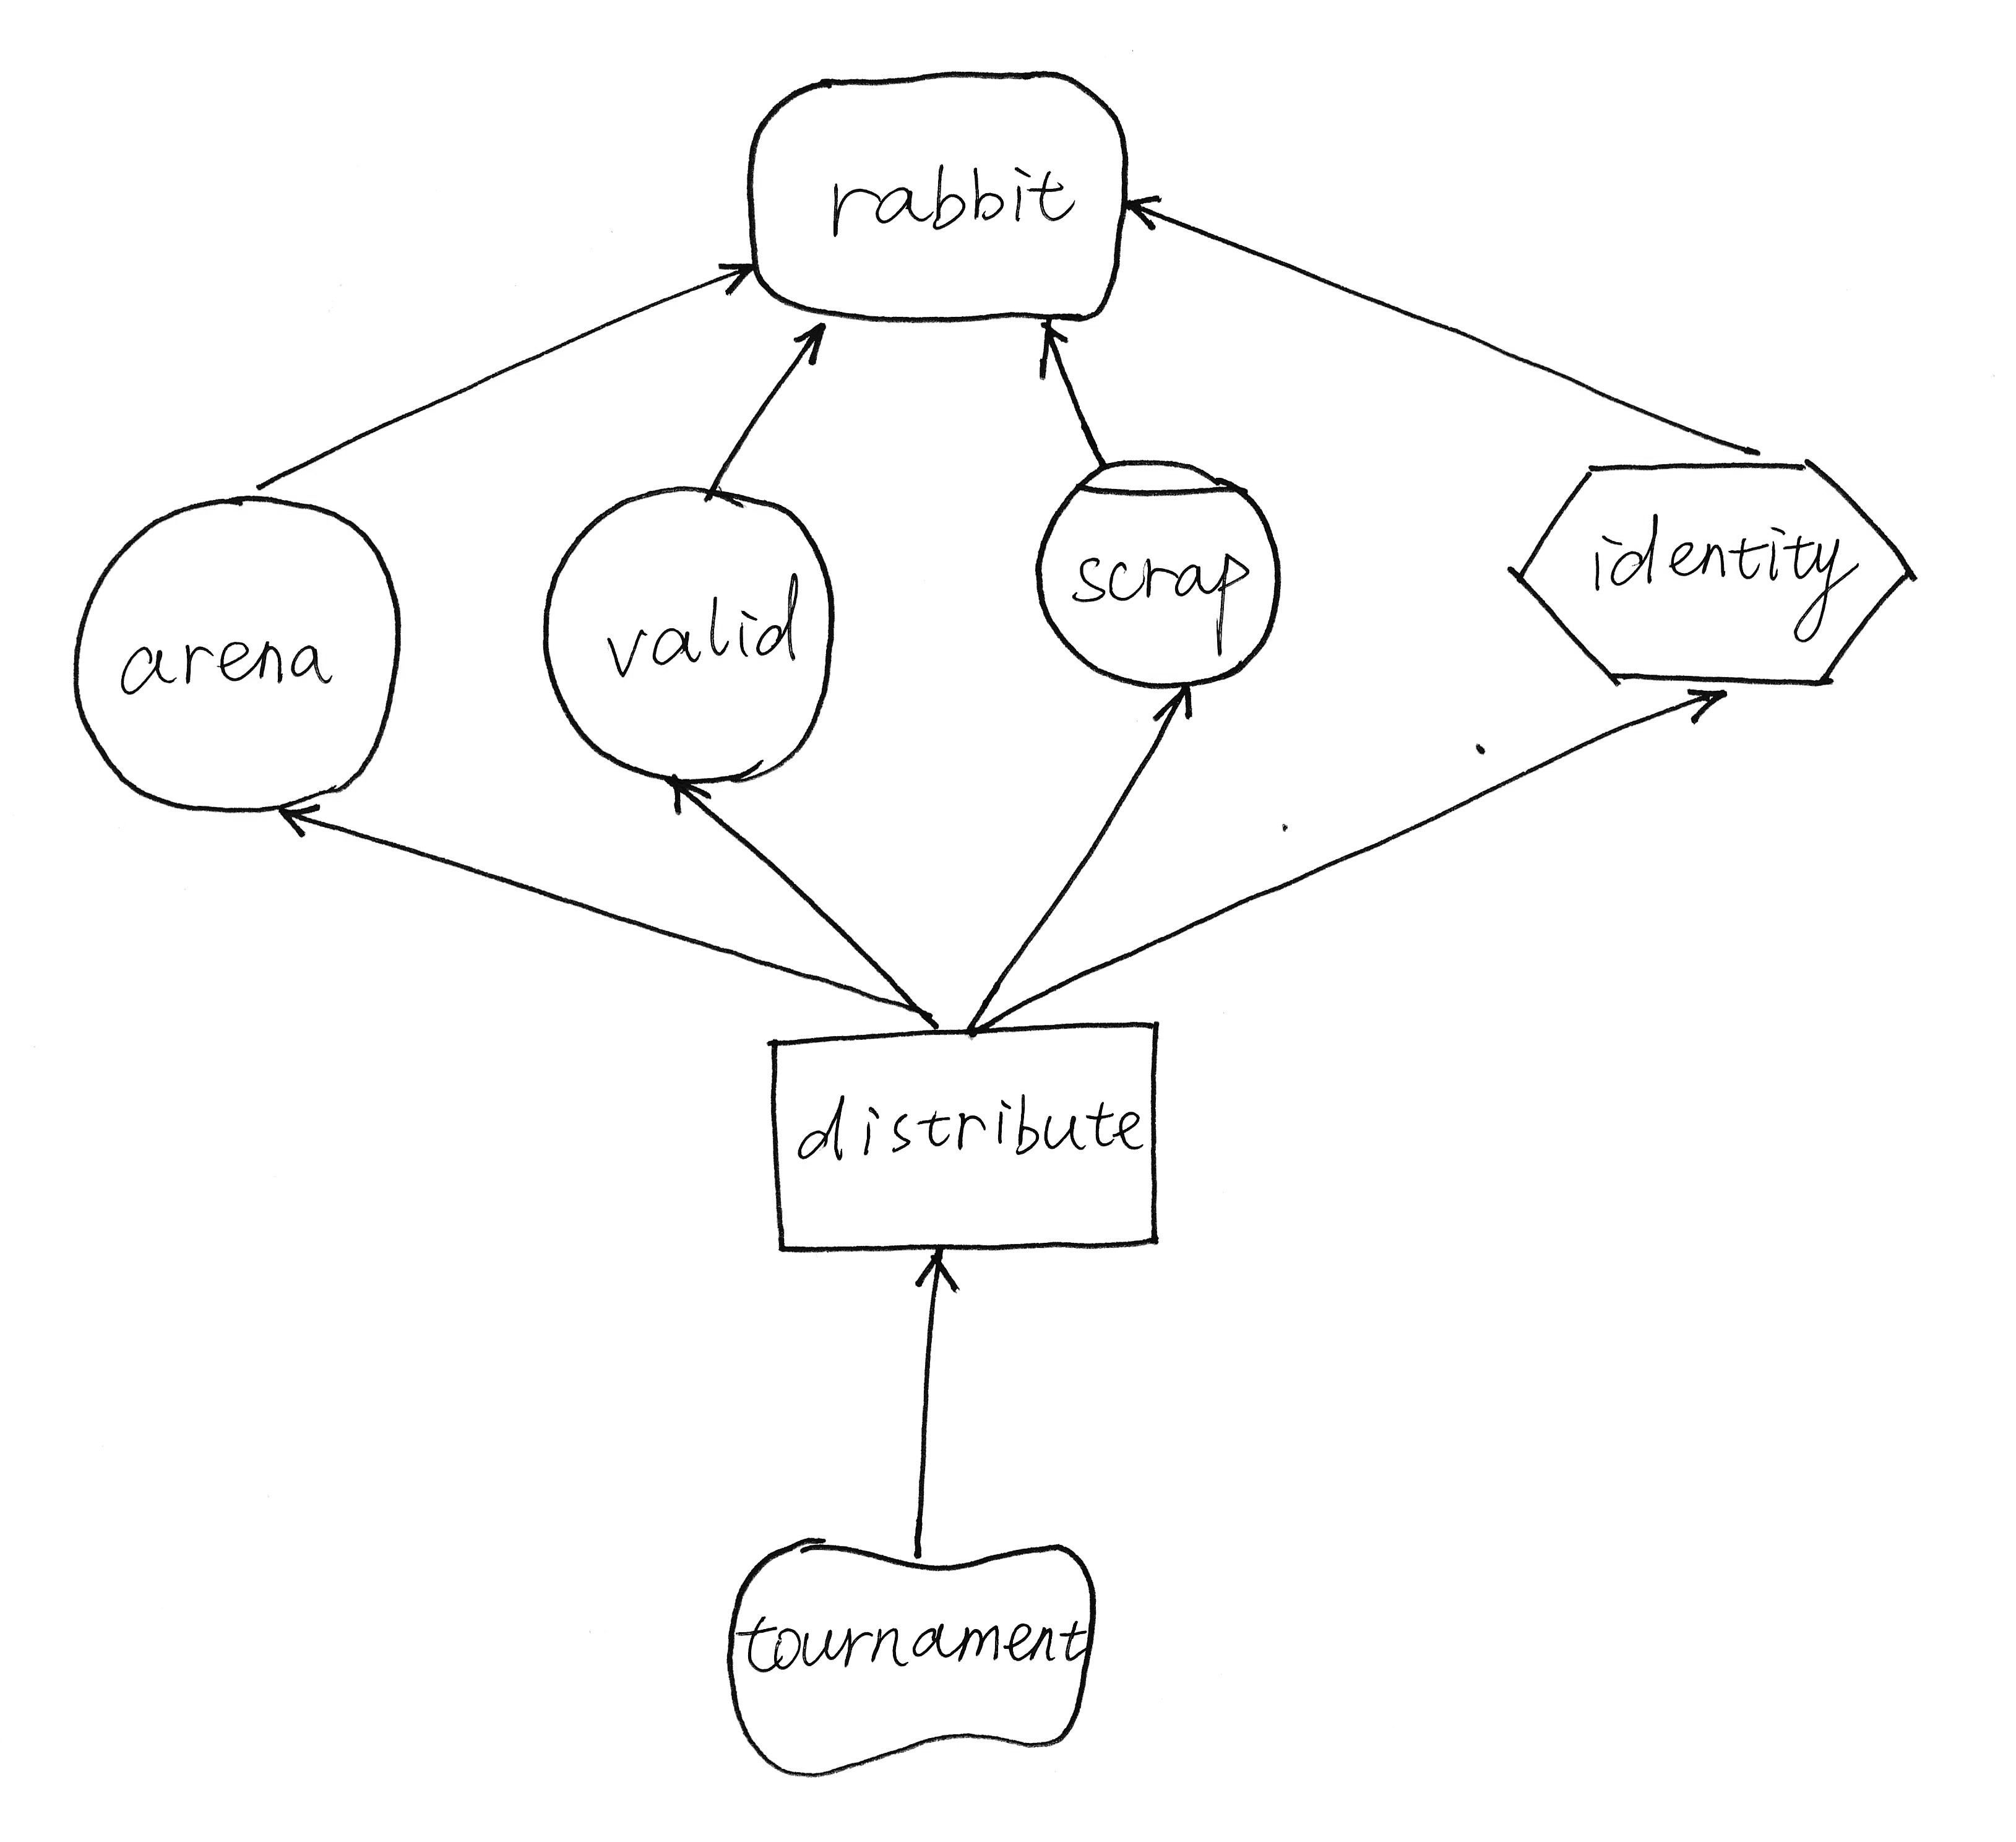actor: (49, 471, 425, 827), (525, 474, 853, 804)
agent: (1024, 446, 1308, 711)
arrow: (1010, 304, 1094, 393), (880, 1238, 978, 1308), (643, 764, 734, 827), (1138, 674, 1219, 736), (697, 246, 773, 311), (1108, 183, 1175, 255), (265, 788, 335, 853), (1670, 681, 1742, 741), (781, 311, 843, 379)
goal: (729, 51, 1147, 346)
quality: (701, 1521, 1112, 1791)
resource: (739, 1010, 1187, 1275)
task: (1498, 434, 1939, 709)
